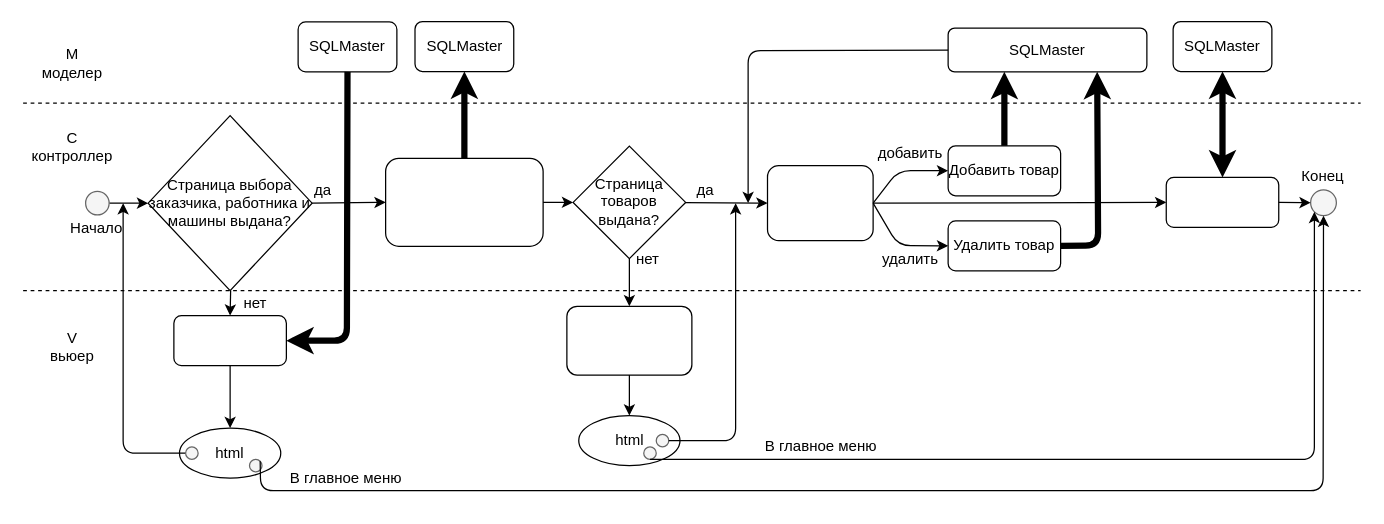
The diagram is 1384 pixels wide and 524 high, and some of its shapes have lost their labels. The shapes that lost their labels are listed below. From the top down, each one's centre as x and y in pixels, then its label:
[463,201]: Запомнить выбор пользователя: заказчика, машину, сотрудника
[819,202]: Определить выбор пользователя
[1222,201]: Сформировать заказ
[229,340]: Выдать страницу
[629,340]: Выдать страницу с записью товаров
